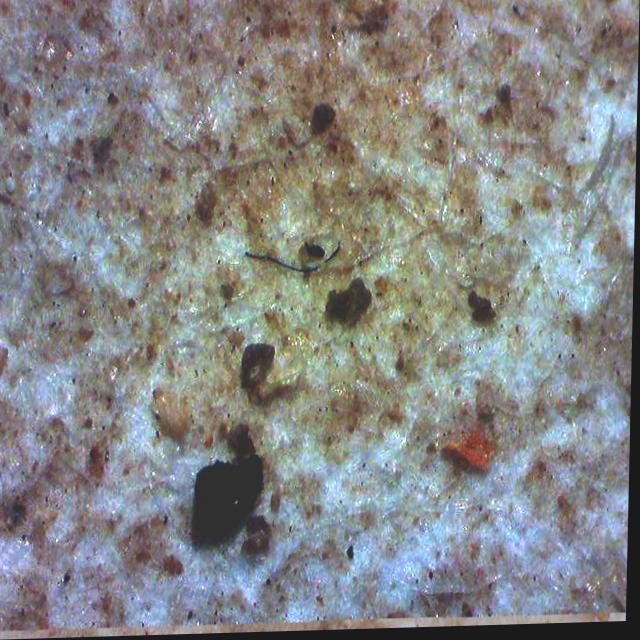microplastic: (244, 241, 346, 283)
